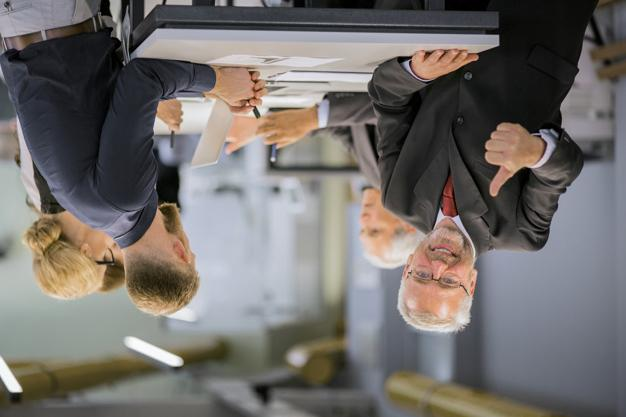thumbsdown: (483, 122, 522, 198)
